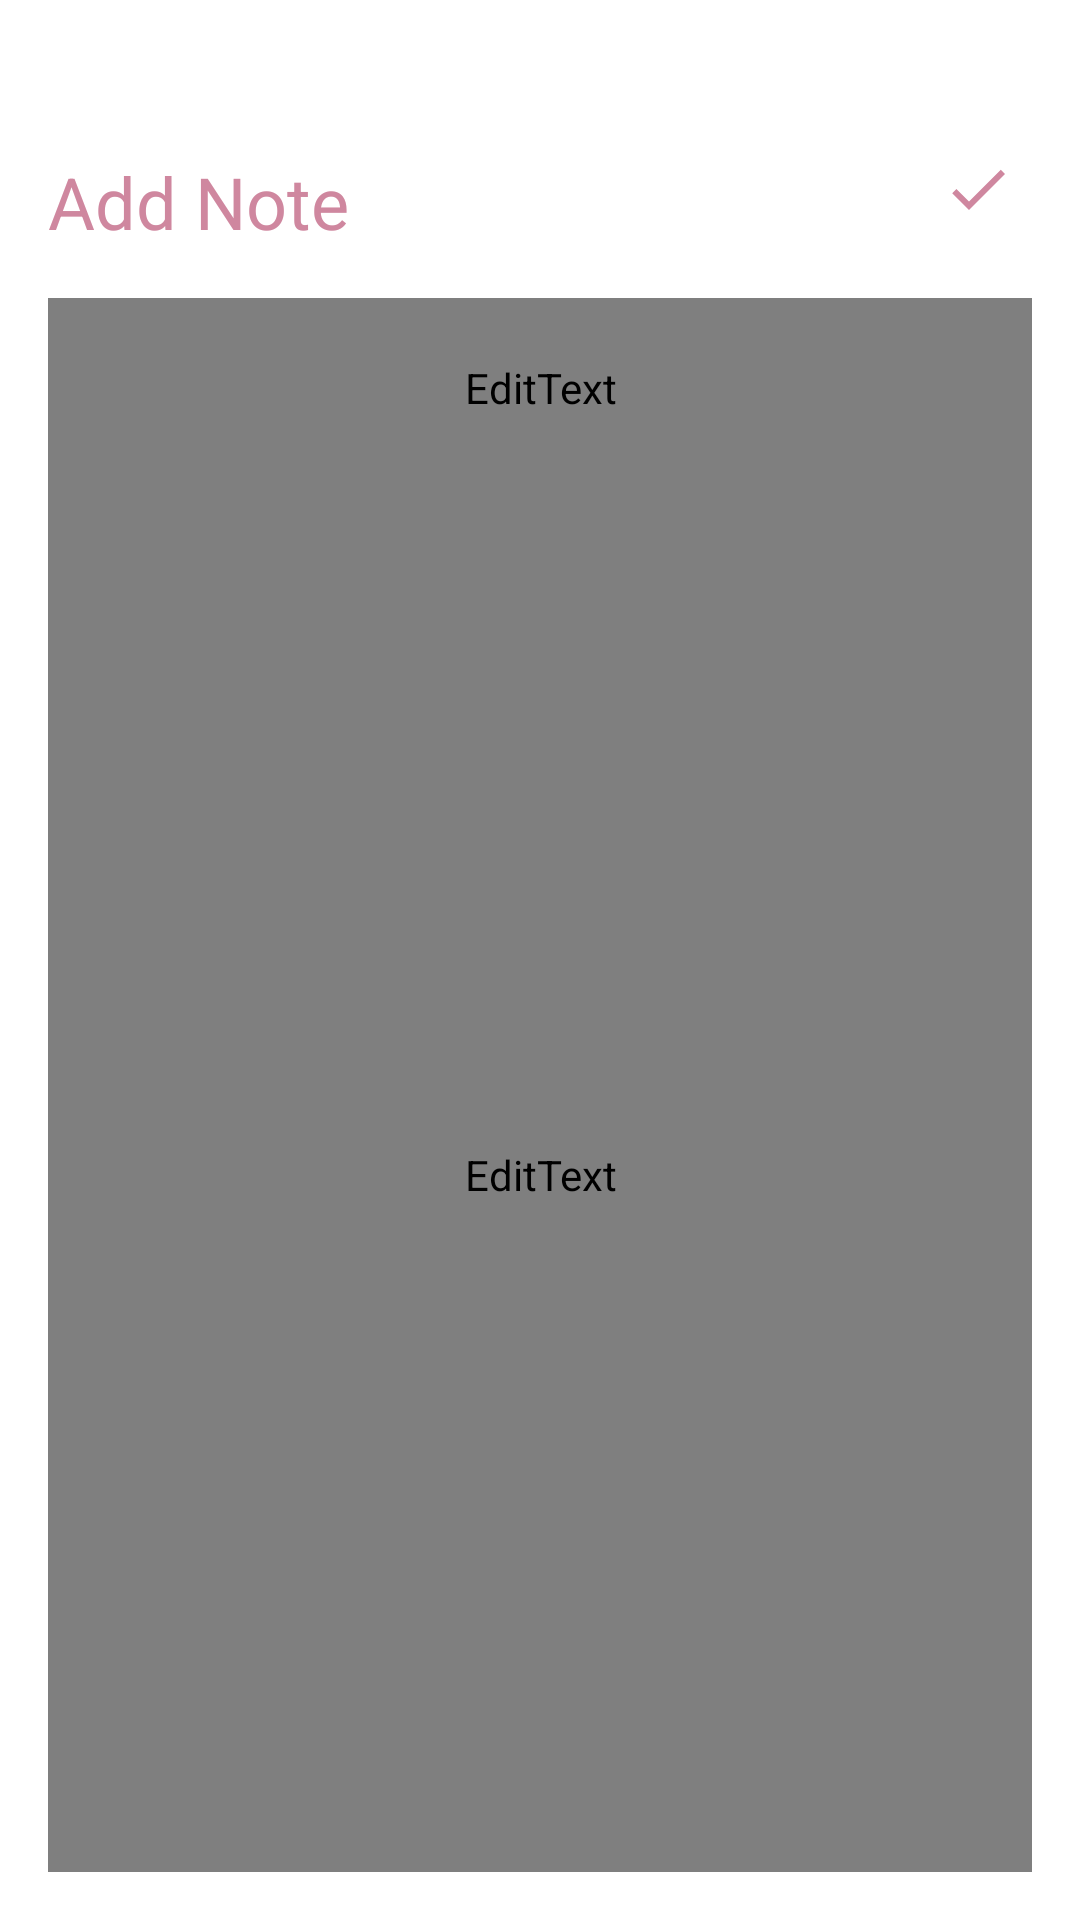

Icons on this 1080×1920 Android screen, each with the point to tap as [x,y]:
done: [978,190]
